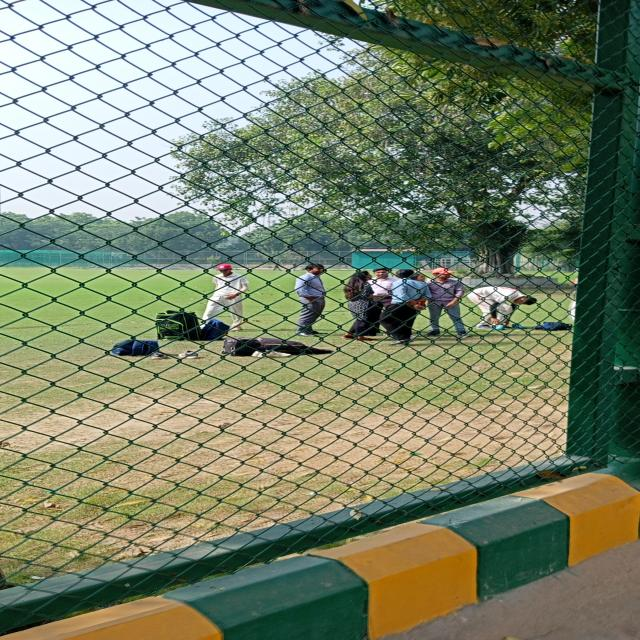unsafe: (199, 263, 250, 332), (471, 284, 537, 332), (392, 268, 428, 346), (429, 269, 466, 339), (296, 263, 330, 337), (344, 271, 377, 341), (372, 269, 398, 335)
